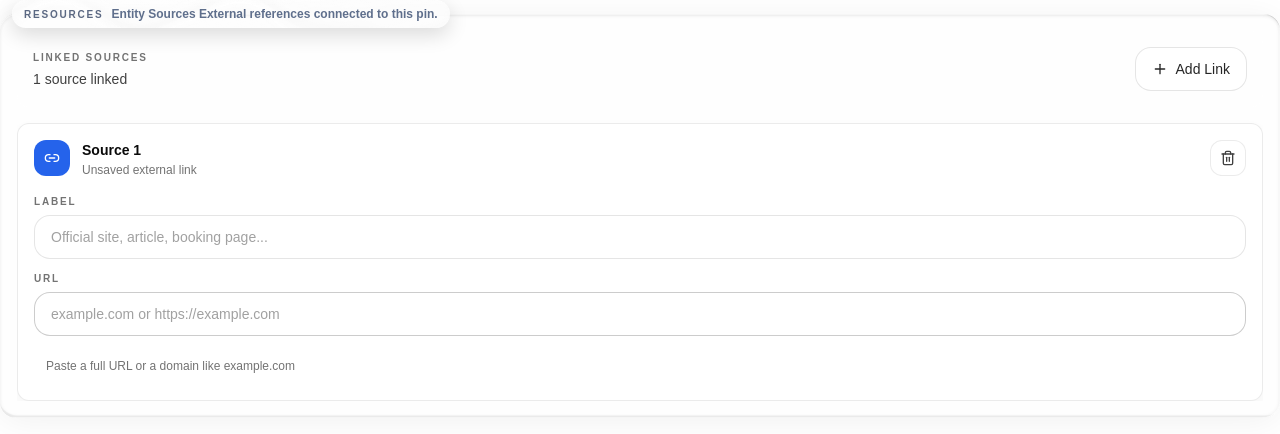
EntityResourcesWidgetCard › shows validation and does not commit an unsupported URL scheme
In the field labelled "URL": {"x": 640, "y": 314} [34,292,1246,336], type "ftp://example.com"
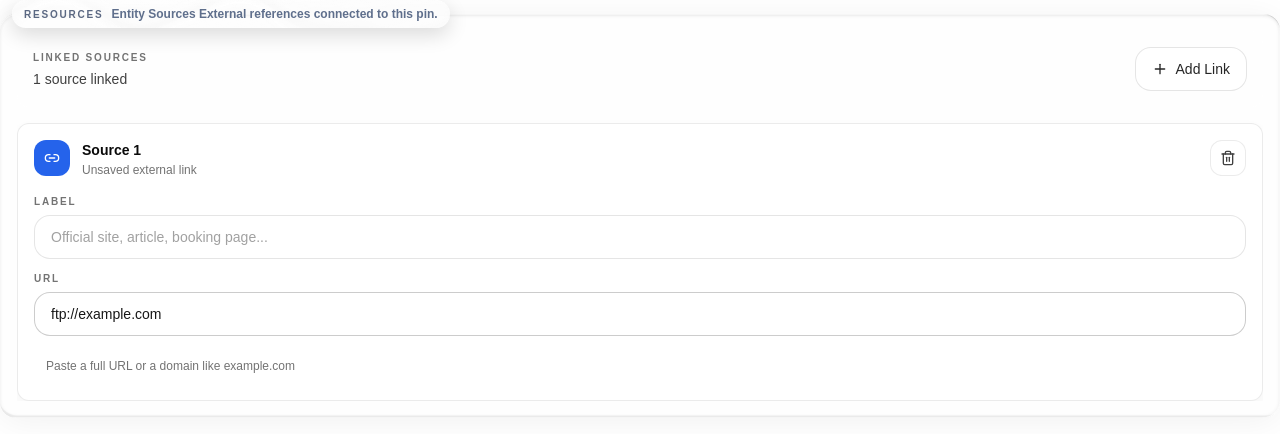
Leave the field labelled "URL", box [34,292,1246,336]
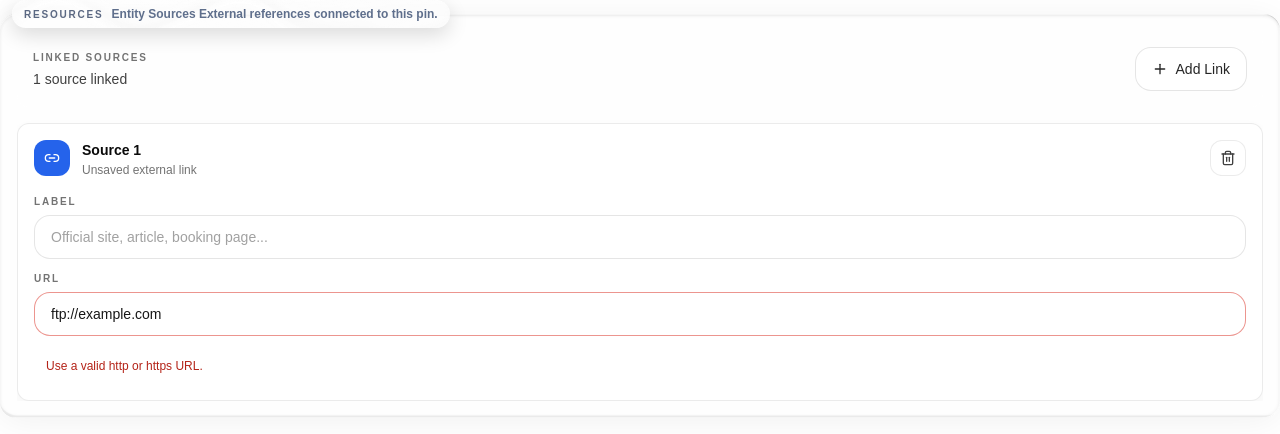
Expected: the text "Use a valid http or https URL." is shown, [46,358,203,374]
